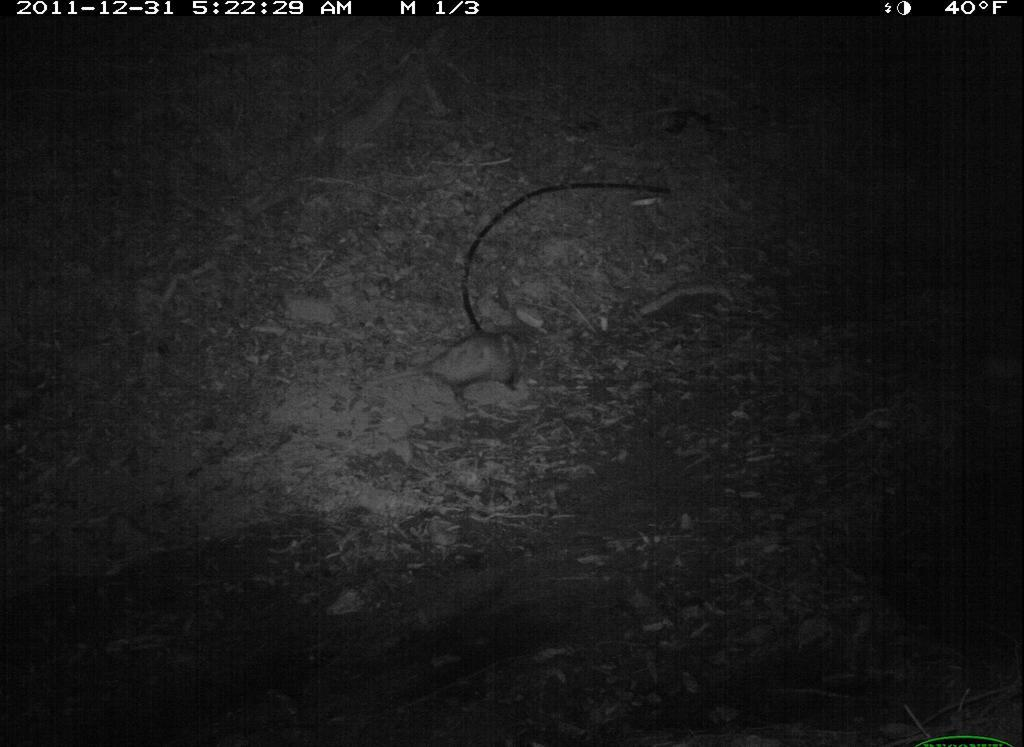opossum: (369, 326, 541, 425)
